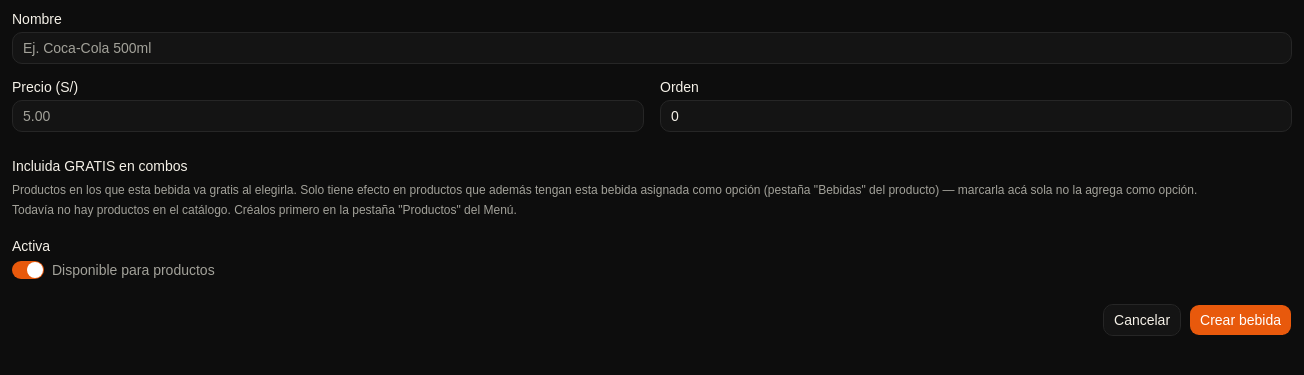
BeverageForm › rechaza un precio negativo escrito directamente (bypass del spinner nativo)
Type "Chicha morada" into the field labelled "Nombre" at {"x": 652, "y": 48}, box x1=12 y1=32 x2=1292 y2=64
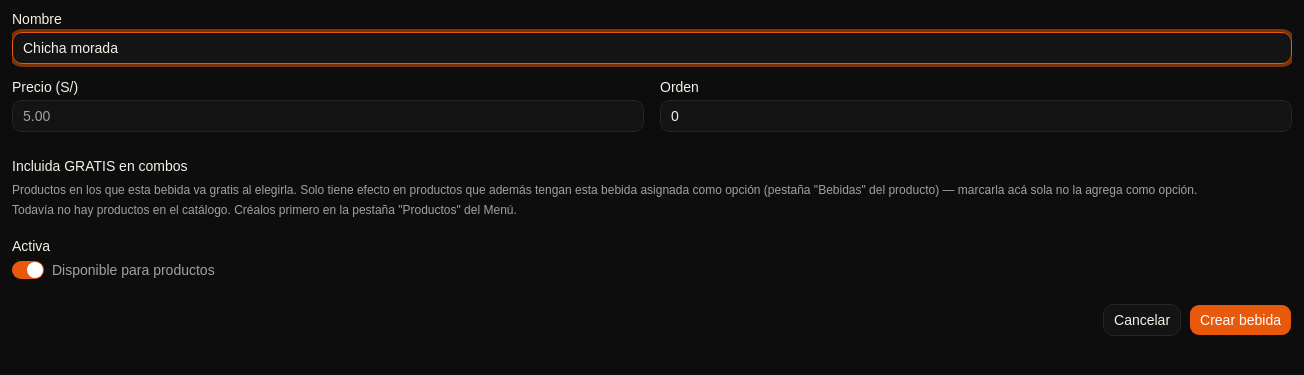
Type "-5" into the number field labelled "Precio (S/)" at {"x": 328, "y": 116}, box x1=12 y1=100 x2=644 y2=132
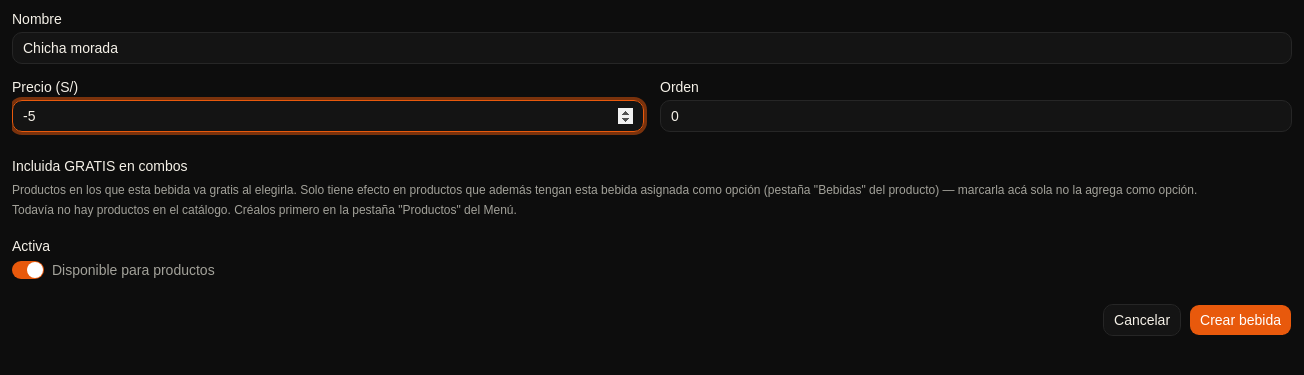
Click the button "Crear bebida" at {"x": 1241, "y": 320}, box x1=1189 y1=304 x2=1292 y2=336
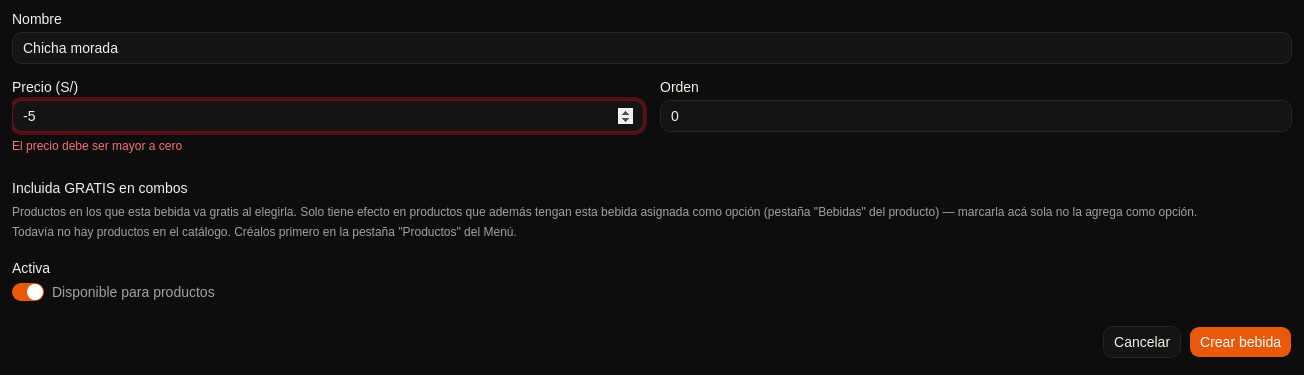
Result: the text "El precio debe ser mayor a cero" is shown at x1=12 y1=139 x2=182 y2=153
